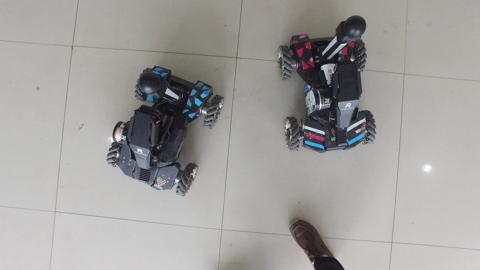chariot: (94, 61, 234, 203), (275, 13, 379, 156)
